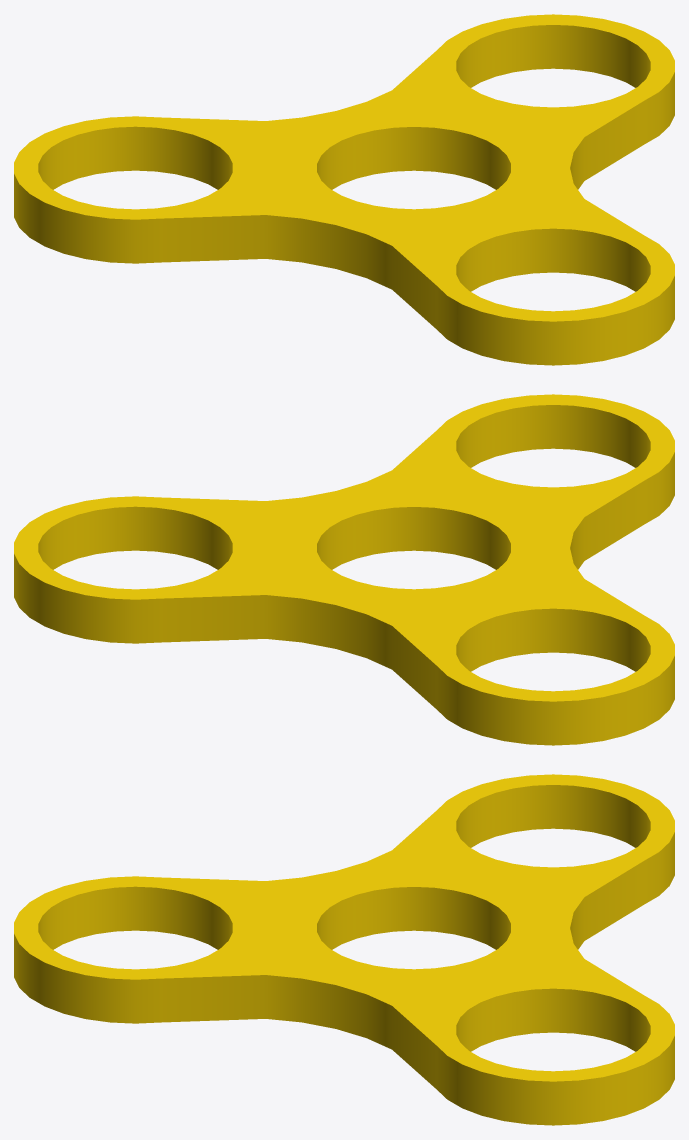
The model's file is spinner_1.FBX.
3 renders of one model, top to bottom at view 1: azimuth 30°, elevation 25°; view 2: azimuth 150°, elevation 25°; view 3: azimuth 270°, elevation 25°, orthographic.
Visible parts, largest first — view 1: spinner_1; view 2: spinner_1; view 3: spinner_1.
Part boxes in pixels (x1,y1,x2,y2): spinner_1: [14, 14, 674, 365]; spinner_1: [14, 394, 674, 745]; spinner_1: [14, 774, 674, 1125].
Bounding box in the file's own units: 0.0875 × 0.00583 × 0.0795.
